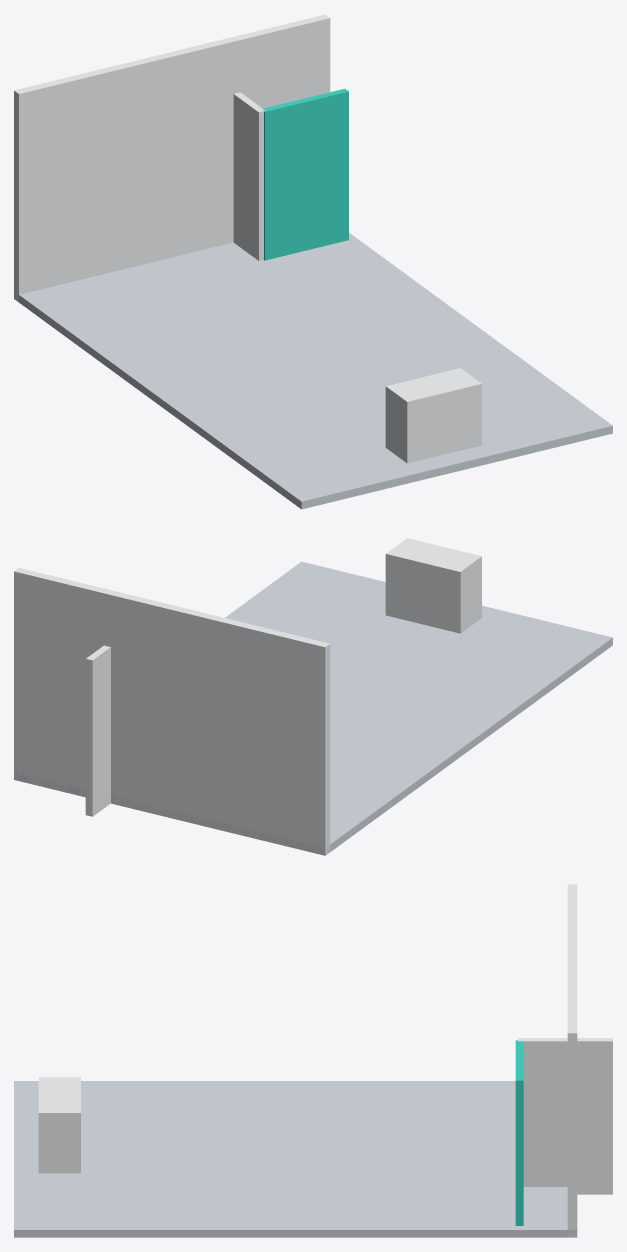
The picture shows the model from 3 angles, top to bottom: view 1: azimuth 30°, elevation 25°; view 2: azimuth 150°, elevation 25°; view 3: azimuth 270°, elevation 25°; orthographic projection. The views are drawn at different scales.
Parts seen in each view (by area): view 1: Exhibition Booth Concept; view 2: Exhibition Booth Concept; view 3: Exhibition Booth Concept.
Part boxes in pixels (x1,y1,x2,y2): Exhibition Booth Concept: [14, 14, 612, 509]; Exhibition Booth Concept: [14, 538, 612, 855]; Exhibition Booth Concept: [14, 884, 612, 1237].
Bounding box in the file's own units: 5 × 3.2 × 8.51.
